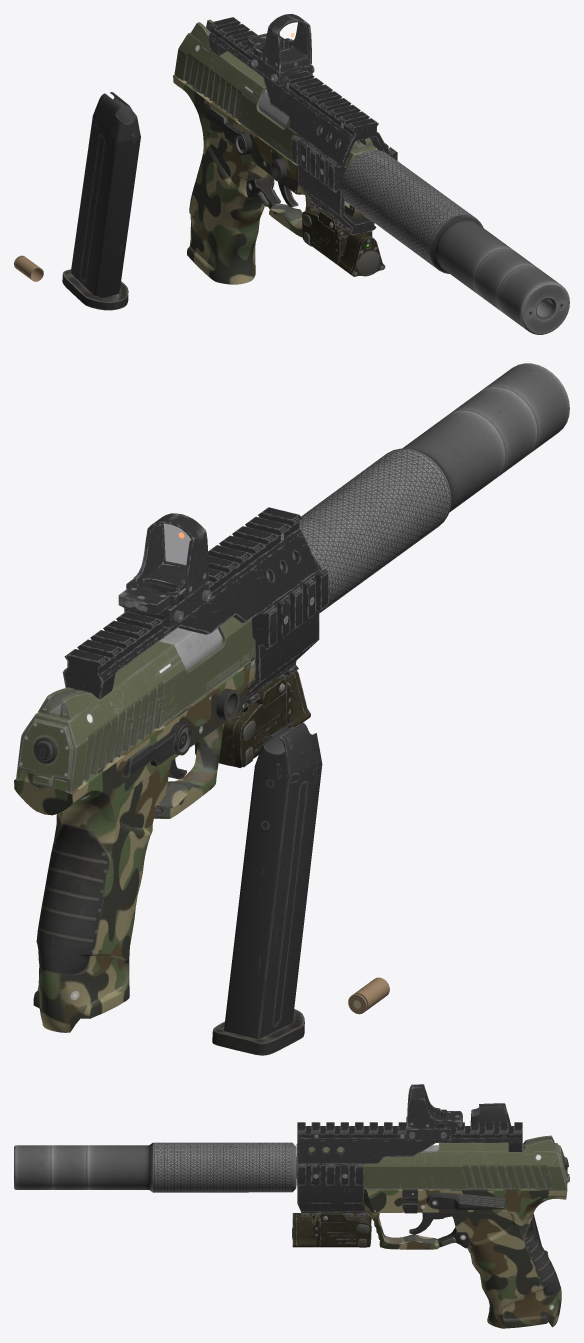
Rendered from pistol_tac.gltf.
The picture shows the model from 3 angles, top to bottom: view 1: azimuth 30°, elevation 25°; view 2: azimuth 150°, elevation 25°; view 3: azimuth 270°, elevation 25°; orthographic projection. The views are drawn at different scales.
Parts seen in each view (by area): view 1: Silencers_05_Mesh, Pistol_Details_03, Pistol_Magazine, Pistol_Frame_Mesh, Pistol_Details_01, FlashLight_02_Mesh, Sight_03_Mesh, Pistol_Details_05, Pistol_Sleeve, Pistol_Details_02; view 2: Pistol_Details_03, Silencers_05_Mesh, Pistol_Magazine, Pistol_Frame_Mesh, Pistol_Details_01, Sight_03_Mesh, FlashLight_02_Mesh, Pistol_Details_05, Pistol_Details_02, Pistol_Sleeve; view 3: Silencers_05_Mesh, Pistol_Details_03, Pistol_Frame_Mesh, Pistol_Details_01, FlashLight_02_Mesh, Sight_03_Mesh, Pistol_Details_04, Pistol_Magazine, Pistol_Trigger.
Part boxes in pixels (x1=…): Silencers_05_Mesh: x1=341, y1=150, x2=569, y2=334; Pistol_Details_03: x1=173, y1=75, x2=363, y2=284; Pistol_Magazine: x1=62, y1=92, x2=140, y2=310; Pistol_Frame_Mesh: x1=208, y1=17, x2=397, y2=235; Pistol_Details_01: x1=174, y1=19, x2=377, y2=166; FlashLight_02_Mesh: x1=302, y1=210, x2=385, y2=276; Sight_03_Mesh: x1=247, y1=14, x2=314, y2=86; Pistol_Details_05: x1=204, y1=107, x2=252, y2=155; Pistol_Sleeve: x1=14, y1=255, x2=43, y2=281; Pistol_Details_02: x1=259, y1=90, x2=288, y2=128; Pistol_Details_03: x1=14, y1=650, x2=254, y2=1032; Silencers_05_Mesh: x1=299, y1=363, x2=569, y2=613; Pistol_Magazine: x1=212, y1=720, x2=322, y2=1055; Pistol_Frame_Mesh: x1=62, y1=507, x2=328, y2=713; Pistol_Details_01: x1=16, y1=553, x2=293, y2=793; Sight_03_Mesh: x1=118, y1=513, x2=211, y2=628; FlashLight_02_Mesh: x1=194, y1=670, x2=310, y2=767; Pistol_Details_05: x1=122, y1=722, x2=192, y2=777; Pistol_Details_02: x1=159, y1=628, x2=222, y2=669; Pistol_Sleeve: x1=348, y1=977, x2=389, y2=1014; Silencers_05_Mesh: x1=14, y1=1142, x2=296, y2=1192; Pistol_Details_03: x1=296, y1=1157, x2=567, y2=1328; Pistol_Frame_Mesh: x1=297, y1=1122, x2=522, y2=1216; Pistol_Details_01: x1=296, y1=1135, x2=569, y2=1189; FlashLight_02_Mesh: x1=292, y1=1212, x2=371, y2=1247; Sight_03_Mesh: x1=406, y1=1084, x2=462, y2=1139; Pistol_Details_04: x1=426, y1=1192, x2=506, y2=1209; Pistol_Magazine: x1=470, y1=1103, x2=548, y2=1255; Pistol_Trigger: x1=409, y1=1212, x2=451, y2=1234.
Bounding box in the file's own units: 0.1801 × 0.2192 × 0.4653.
Materials: 7 (6 with a texture image).
